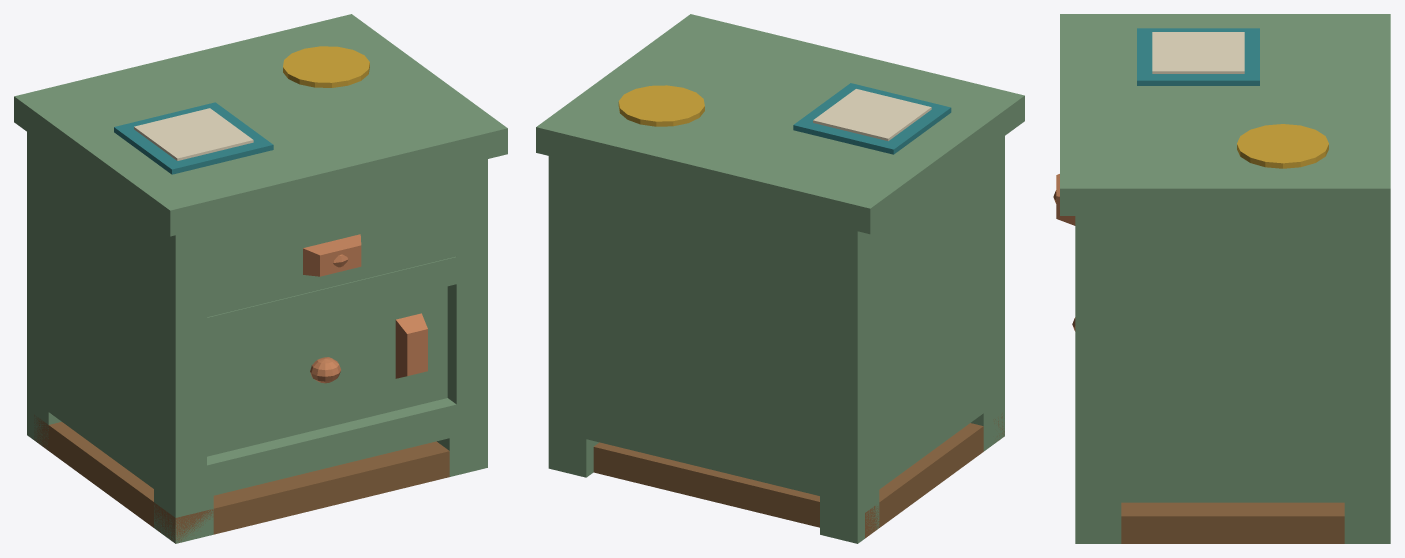
Rendered from cabinetBedDrawer.glb.
The picture shows the model from 3 angles, left to right: view 1: azimuth 30°, elevation 25°; view 2: azimuth 150°, elevation 25°; view 3: azimuth 270°, elevation 25°; orthographic projection. The views are drawn at different scales.
Parts seen in each view (by area): view 1: cabinetBedDrawer(Clone), door, drawer; view 2: cabinetBedDrawer(Clone); view 3: cabinetBedDrawer(Clone).
Boxes of the visible parts, x1,y1,x2,y2 form: cabinetBedDrawer(Clone): (14,14,507,543); door: (207,286,447,456); drawer: (207,191,456,317); cabinetBedDrawer(Clone): (536,14,1024,543); cabinetBedDrawer(Clone): (1060,14,1390,543).
Size of the model in its own units: 0.266 by 0.2632 by 0.2173.
